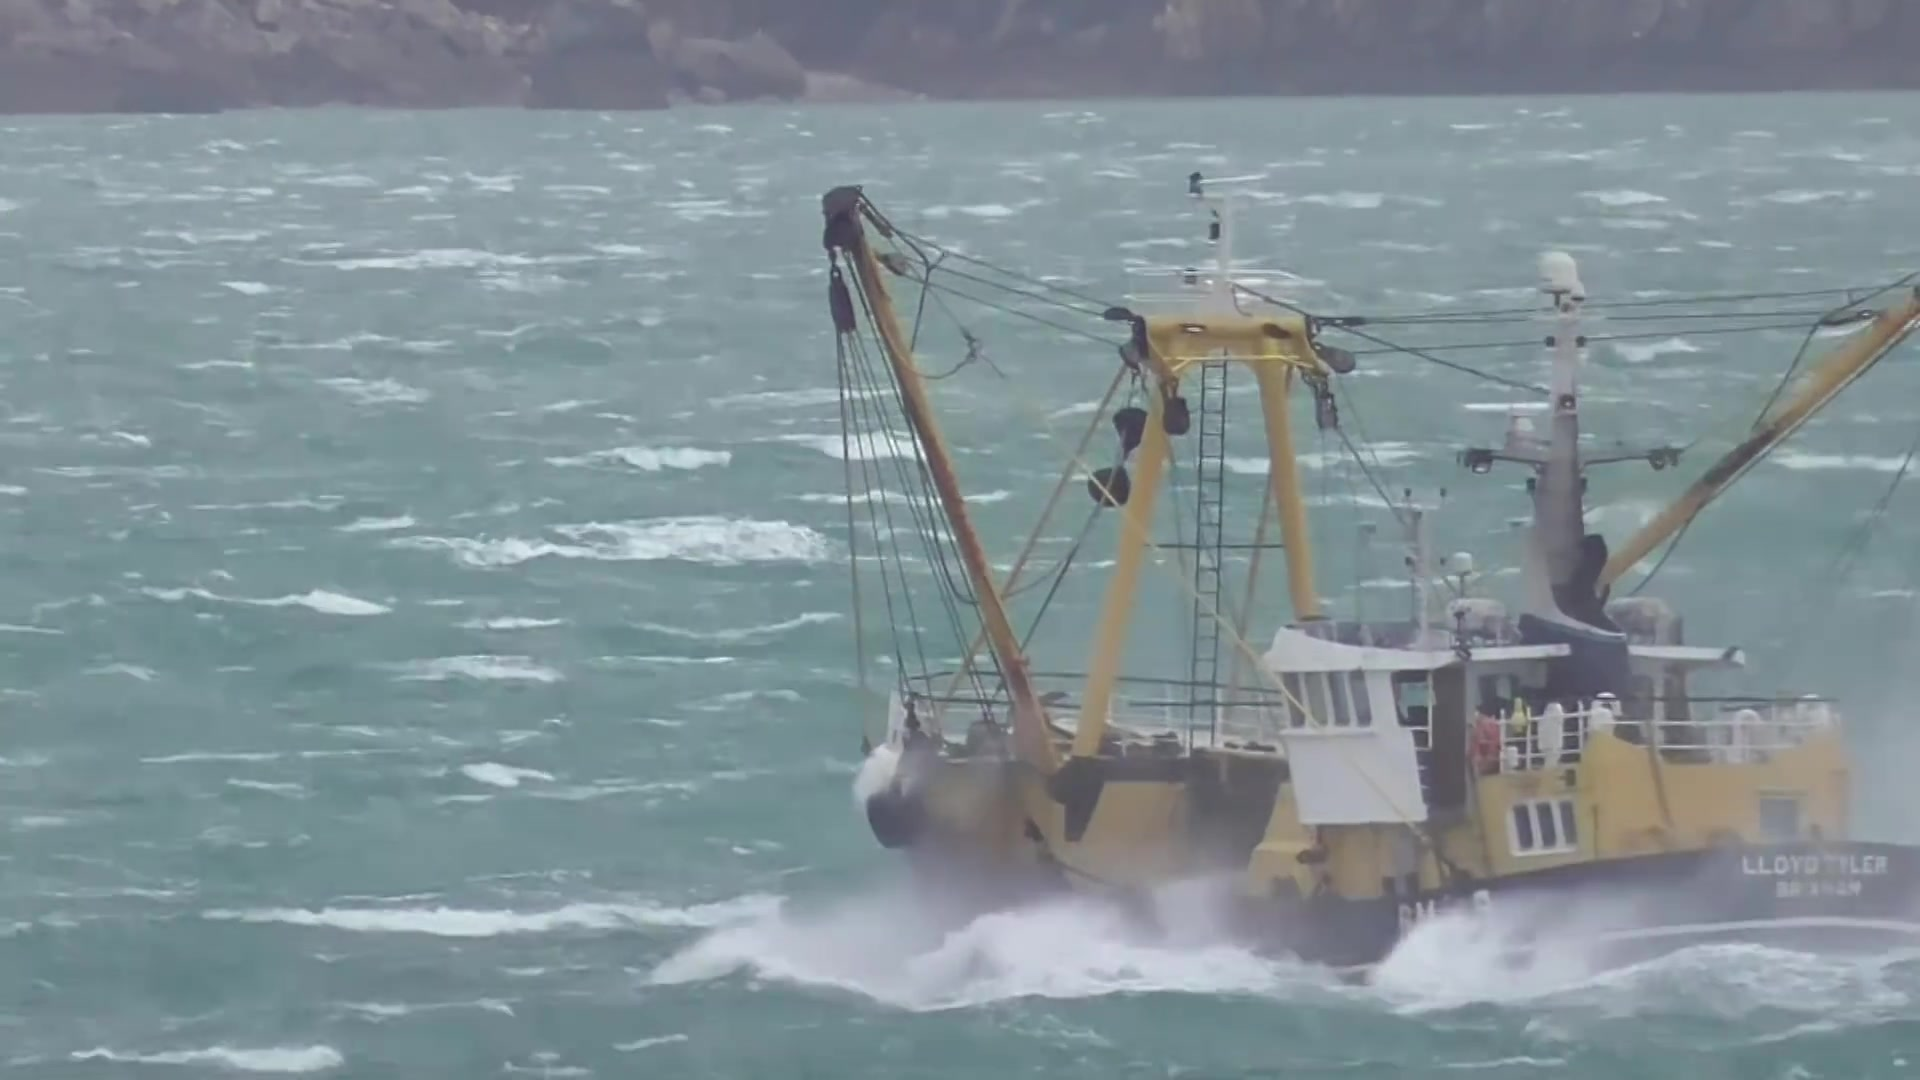CommonShip: (824, 324, 1871, 956)
